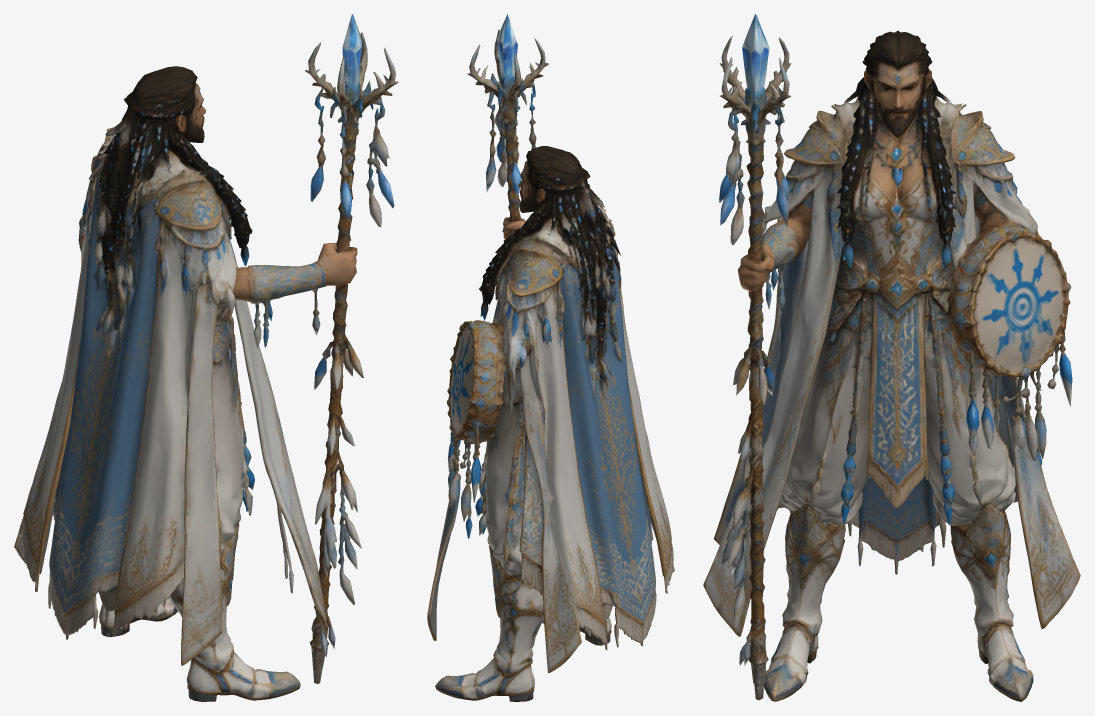
The model's file is drumcalleralt_T10-tripo.glb.
3 views of the same model, side by side, from view 1: azimuth 30°, elevation 25°; view 2: azimuth 150°, elevation 25°; view 3: azimuth 270°, elevation 25° (orthographic). The views are drawn at different scales.
Visible parts, largest first — view 1: tripo_node_1a36e02d-484c-4695-832c-47da40fa2012; view 2: tripo_node_1a36e02d-484c-4695-832c-47da40fa2012; view 3: tripo_node_1a36e02d-484c-4695-832c-47da40fa2012.
Part boxes in pixels (x1,y1,x2,y2): tripo_node_1a36e02d-484c-4695-832c-47da40fa2012: [14, 14, 398, 701]; tripo_node_1a36e02d-484c-4695-832c-47da40fa2012: [427, 14, 674, 701]; tripo_node_1a36e02d-484c-4695-832c-47da40fa2012: [703, 14, 1080, 701].
Bounding box in the file's own units: 0.3946 × 1 × 0.481.
Materials: 1 (1 with a texture image).
